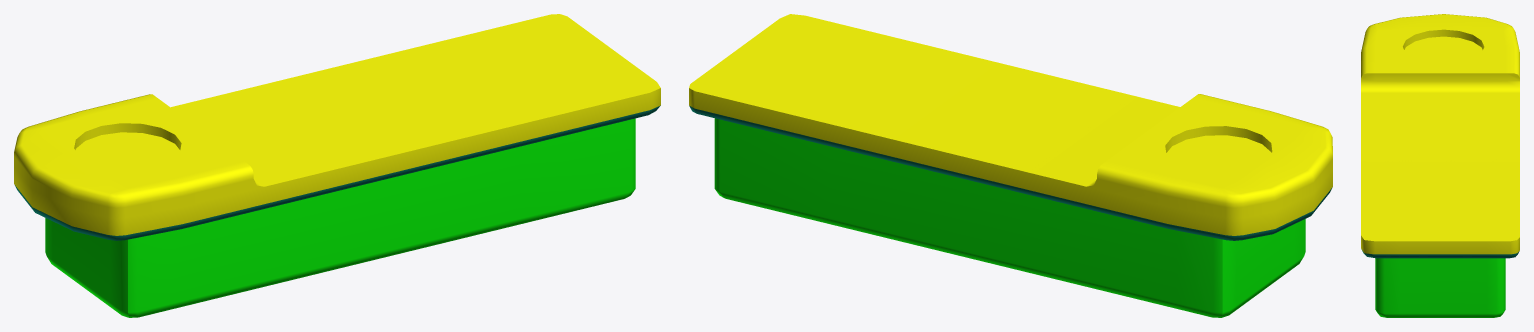
File: SM_Banc_02.fbx
3 renders of one model, left to right at view 1: azimuth 30°, elevation 25°; view 2: azimuth 150°, elevation 25°; view 3: azimuth 270°, elevation 25°, orthographic. The views are drawn at different scales.
Parts seen in each view (by area): view 1: SM_Banc_02; view 2: SM_Banc_02; view 3: SM_Banc_02.
Part boxes in pixels (x1,y1,x2,y2): SM_Banc_02: [14, 14, 660, 317]; SM_Banc_02: [689, 14, 1332, 317]; SM_Banc_02: [1361, 14, 1519, 317].
Size of the model in its own units: 1.69 by 0.3759 by 0.53.
